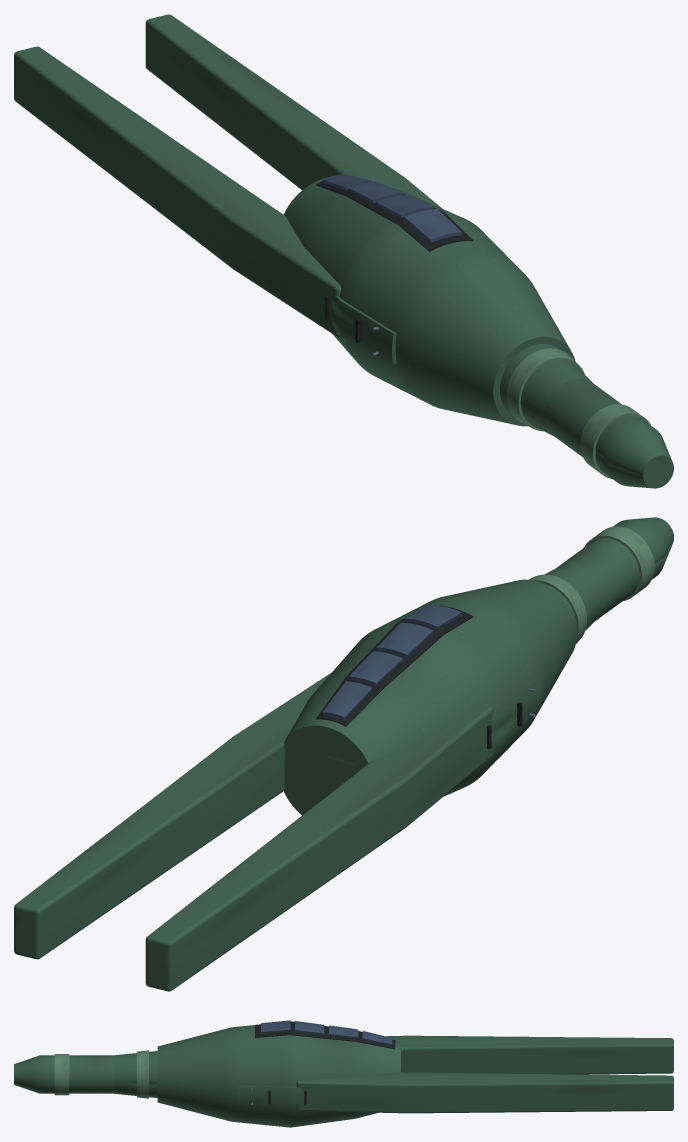
3 renders of one model, top to bottom at view 1: azimuth 30°, elevation 25°; view 2: azimuth 150°, elevation 25°; view 3: azimuth 270°, elevation 25°, orthographic. The views are drawn at different scales.
Parts seen in each view (by area): view 1: Rigellian Flamejell green core, Rigellian Flamejell rear prong 0, Rigellian Flamejell rear prong 1, Rigellian Flamejell green forward end, Rigellian Flamejell forward neck, Rigellian Flamejell service cover 1, Rigellian Flamejell pale band 1, Rigellian Flamejell pale band 0, Rigellian Flamejell centre recess surround, Rigellian Flamejell blue centre insert 0, Rigellian Flamejell blue centre insert 1, Rigellian Flamejell blue centre insert 2; view 2: Rigellian Flamejell green core, Rigellian Flamejell rear prong 0, Rigellian Flamejell rear prong 1, Rigellian Flamejell green forward end, Rigellian Flamejell centre recess surround, Rigellian Flamejell service cover 1, Rigellian Flamejell pale band 0, Rigellian Flamejell forward neck, Rigellian Flamejell blue centre insert 1, Rigellian Flamejell blue centre insert 2, Rigellian Flamejell blue centre insert 3, Rigellian Flamejell pale band 1 (+1 smaller); view 3: Rigellian Flamejell green core, Rigellian Flamejell rear prong 1, Rigellian Flamejell rear prong 0, Rigellian Flamejell green forward end, Rigellian Flamejell forward neck, Rigellian Flamejell service cover 0, Rigellian Flamejell centre recess surround, Rigellian Flamejell pale band 0, Rigellian Flamejell pale band 1, Rigellian Flamejell blue centre insert 0, Rigellian Flamejell blue centre insert 1, Rigellian Flamejell blue centre insert 2 (+1 smaller).
Part boxes in pixels (x1=…): Rigellian Flamejell green core: x1=283, y1=178, x2=575, y2=426; Rigellian Flamejell rear prong 0: x1=14, y1=46, x2=341, y2=336; Rigellian Flamejell rear prong 1: x1=145, y1=14, x2=441, y2=208; Rigellian Flamejell green forward end: x1=544, y1=378, x2=673, y2=488; Rigellian Flamejell forward neck: x1=500, y1=344, x2=593, y2=436; Rigellian Flamejell service cover 1: x1=331, y1=295, x2=396, y2=364; Rigellian Flamejell pale band 1: x1=506, y1=348, x2=584, y2=431; Rigellian Flamejell pale band 0: x1=580, y1=404, x2=650, y2=478; Rigellian Flamejell centre recess surround: x1=316, y1=181, x2=473, y2=251; Rigellian Flamejell blue centre insert 0: x1=404, y1=209, x2=461, y2=242; Rigellian Flamejell blue centre insert 1: x1=377, y1=195, x2=433, y2=217; Rigellian Flamejell blue centre insert 2: x1=349, y1=181, x2=402, y2=203; Rigellian Flamejell green core: x1=283, y1=579, x2=576, y2=815; Rigellian Flamejell rear prong 0: x1=145, y1=705, x2=493, y2=991; Rigellian Flamejell rear prong 1: x1=14, y1=672, x2=331, y2=959; Rigellian Flamejell green forward end: x1=557, y1=517, x2=673, y2=620; Rigellian Flamejell centre recess surround: x1=316, y1=605, x2=473, y2=726; Rigellian Flamejell service cover 1: x1=490, y1=676, x2=541, y2=748; Rigellian Flamejell pale band 0: x1=583, y1=526, x2=654, y2=601; Rigellian Flamejell forward neck: x1=544, y1=566, x2=601, y2=630; Rigellian Flamejell blue centre insert 1: x1=377, y1=622, x2=433, y2=657; Rigellian Flamejell blue centre insert 2: x1=349, y1=651, x2=402, y2=686; Rigellian Flamejell blue centre insert 3: x1=322, y1=681, x2=372, y2=720; Rigellian Flamejell pale band 1: x1=529, y1=574, x2=586, y2=643; Rigellian Flamejell green core: x1=157, y1=1025, x2=400, y2=1127; Rigellian Flamejell rear prong 1: x1=296, y1=1072, x2=673, y2=1113; Rigellian Flamejell rear prong 0: x1=385, y1=1035, x2=673, y2=1074; Rigellian Flamejell green forward end: x1=14, y1=1055, x2=113, y2=1093; Rigellian Flamejell forward neck: x1=113, y1=1051, x2=157, y2=1097; Rigellian Flamejell service cover 0: x1=237, y1=1085, x2=304, y2=1107; Rigellian Flamejell centre recess surround: x1=255, y1=1021, x2=395, y2=1049; Rigellian Flamejell pale band 0: x1=54, y1=1054, x2=69, y2=1095; Rigellian Flamejell pale band 1: x1=137, y1=1050, x2=148, y2=1098; Rigellian Flamejell blue centre insert 0: x1=261, y1=1020, x2=290, y2=1033; Rigellian Flamejell blue centre insert 1: x1=295, y1=1021, x2=324, y2=1034; Rigellian Flamejell blue centre insert 2: x1=329, y1=1025, x2=358, y2=1038.
Bounding box in the file's own units: 0.4 × 0.369 × 2.24.
Materials: 5 (3 with a texture image).
